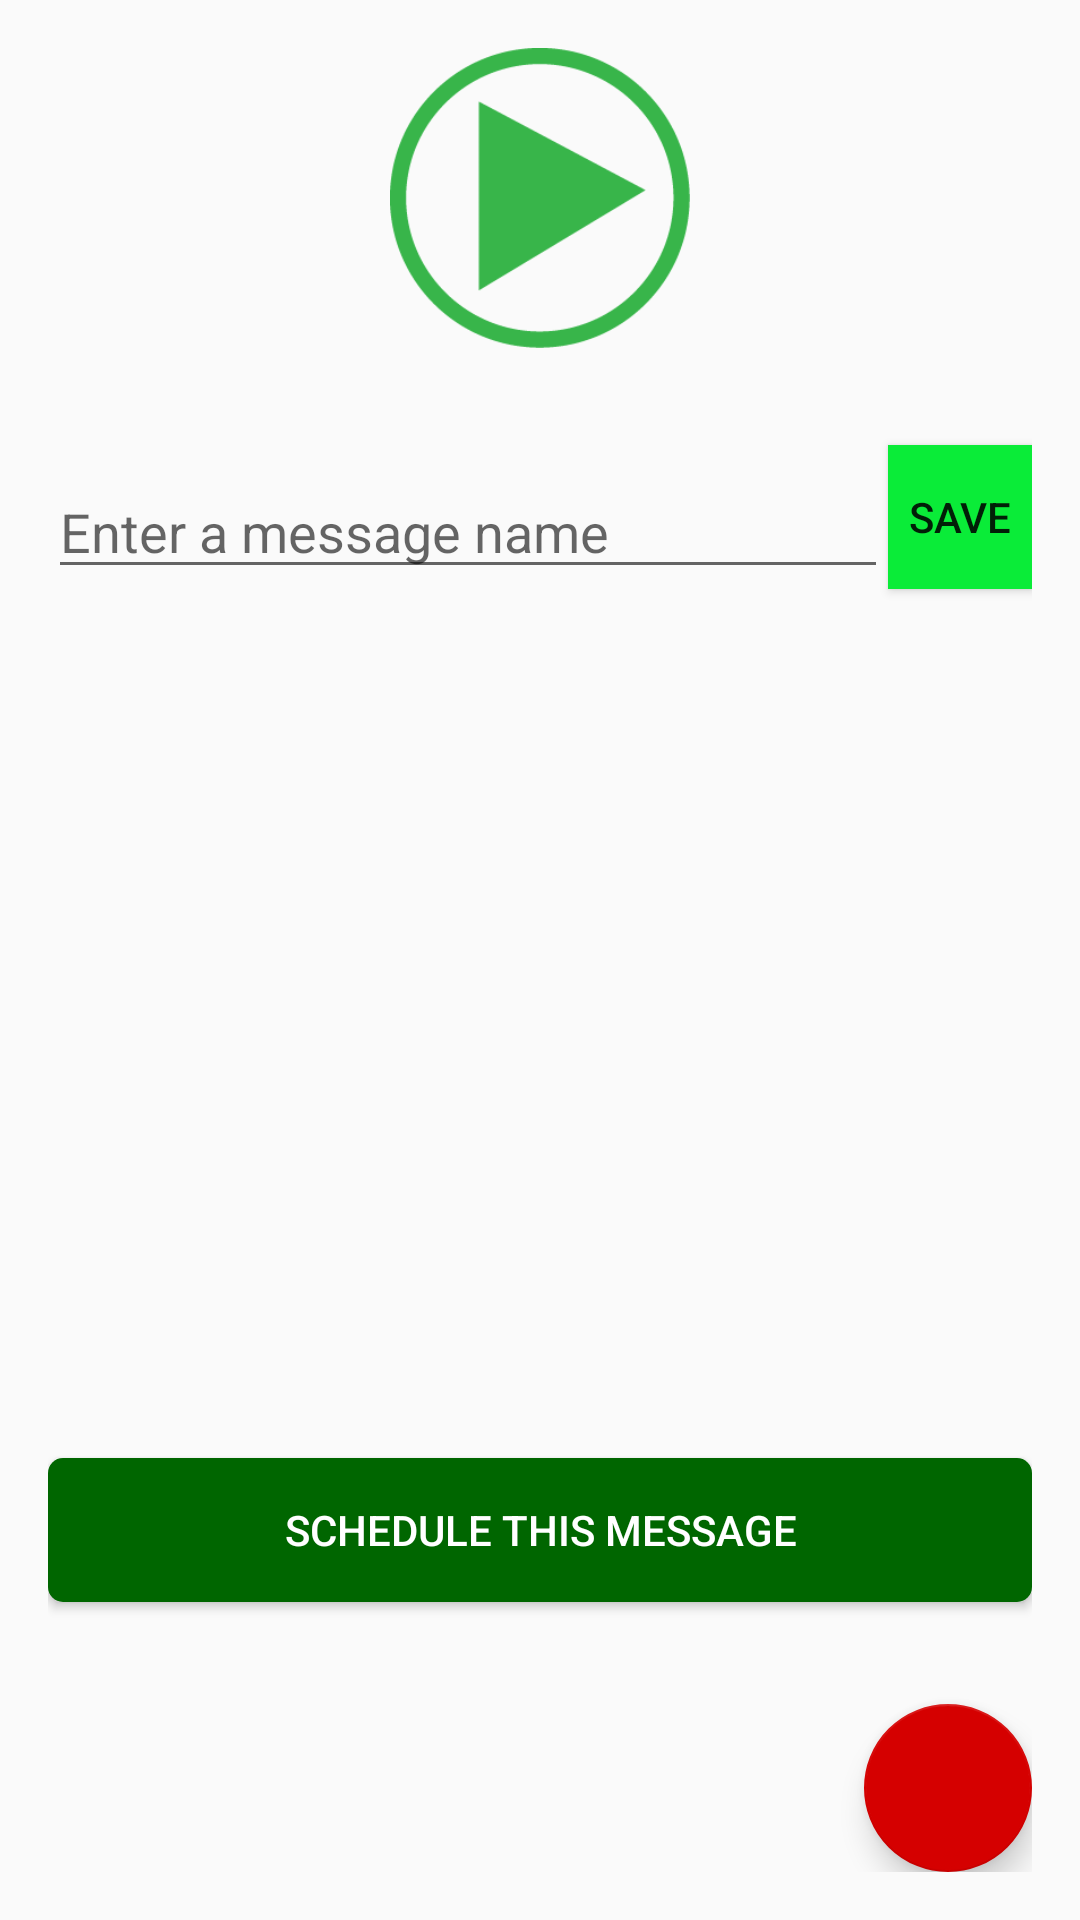

Named icons in this screenshot (1080*1920) and their bounding boxes, (x1, y1, x2, y2):
play sound: (390, 48, 690, 348)
